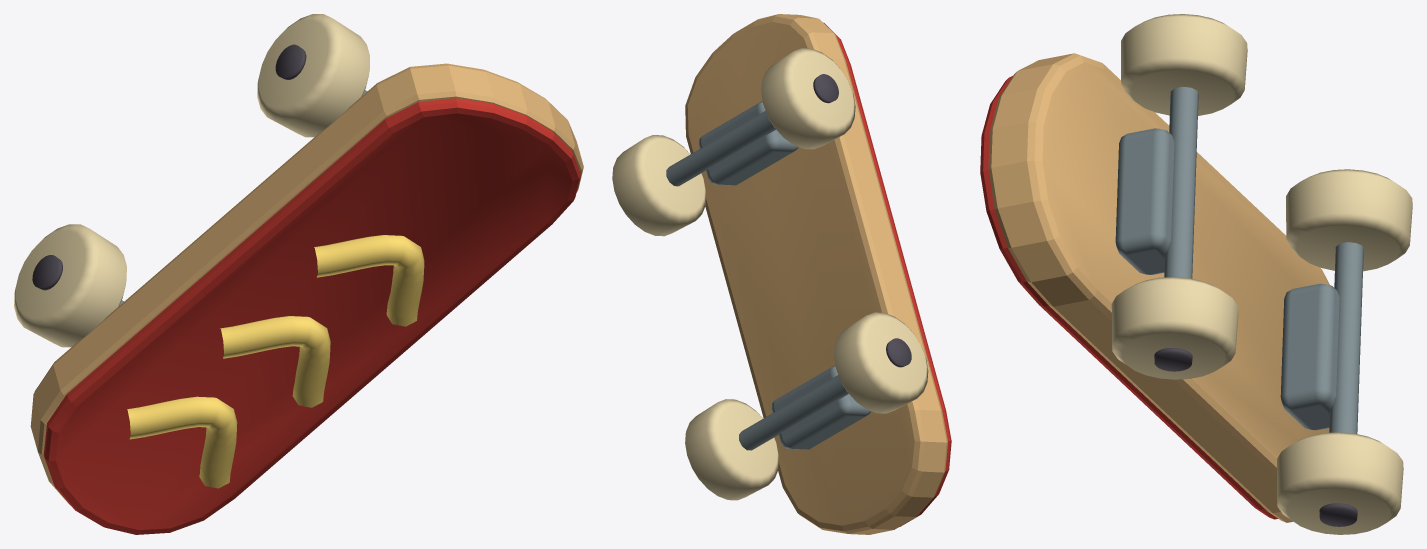
The model's file is skate-deck.glb.
The picture shows the model from 3 angles, left to right: view 1: azimuth 30°, elevation 25°; view 2: azimuth 150°, elevation 25°; view 3: azimuth 270°, elevation 25°; orthographic projection. The views are drawn at different scales.
Visible parts, largest first — view 1: skate-deck; view 2: skate-deck; view 3: skate-deck.
Boxes of the visible parts, x1,y1,x2,y2 form: skate-deck: (14,14,583,534); skate-deck: (612,14,951,534); skate-deck: (980,14,1412,534).
Bounding box in the file's own units: 0.7476 × 0.8188 × 0.5764.
